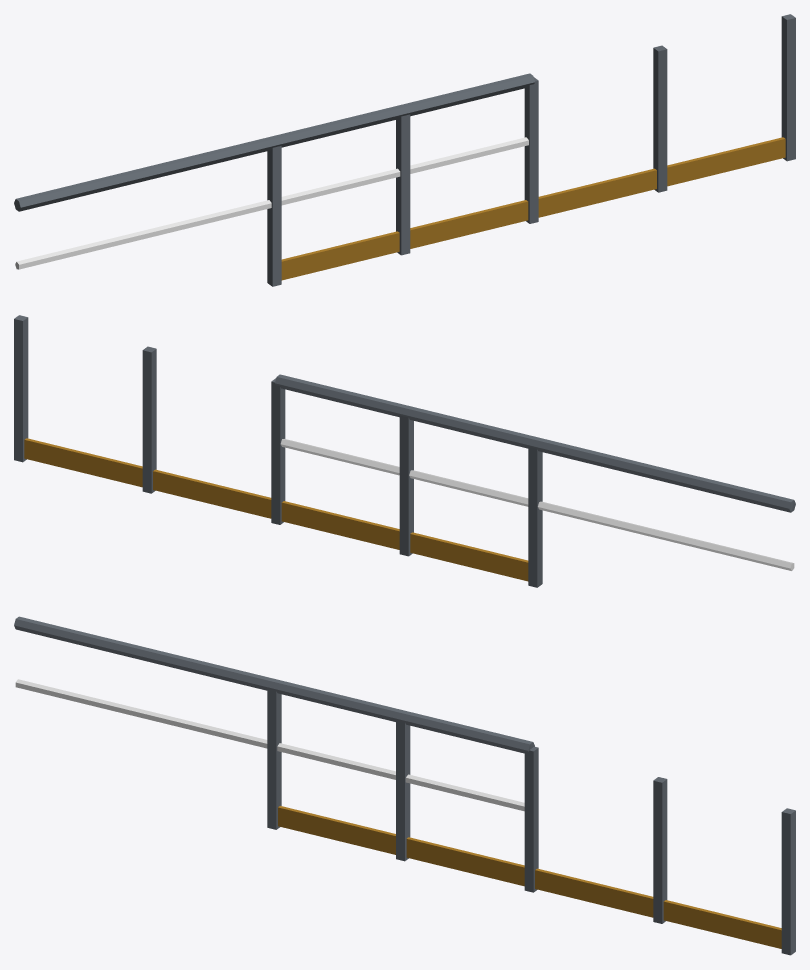
Rendered from Railing_4m.fbx.
3 renders of one model, top to bottom at view 1: azimuth 30°, elevation 25°; view 2: azimuth 150°, elevation 25°; view 3: azimuth 330°, elevation 25°, orthographic.
Visible parts, largest first — view 1: Railing_4m; view 2: Railing_4m; view 3: Railing_4m.
Part boxes in pixels (bbox=[...]): Railing_4m: bbox=[14, 14, 795, 286]; Railing_4m: bbox=[14, 315, 795, 587]; Railing_4m: bbox=[14, 616, 795, 955].
Size of the model in its own units: 6.04 by 1.09 by 0.09.
